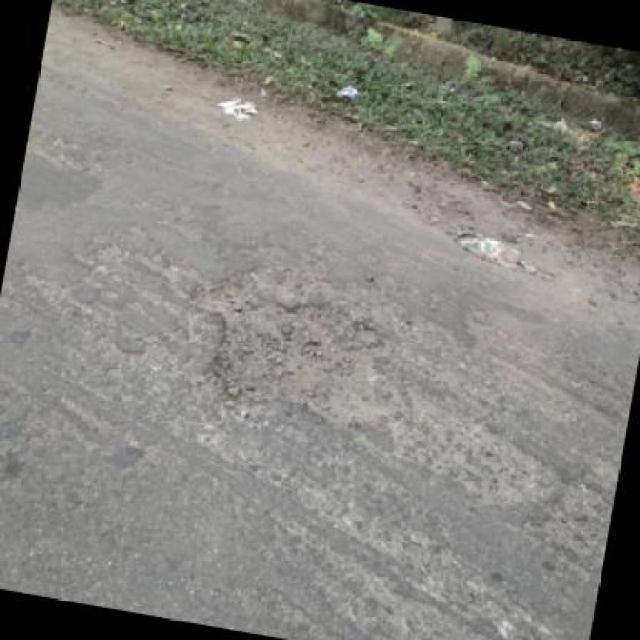pothole1: (170, 272, 408, 436)
